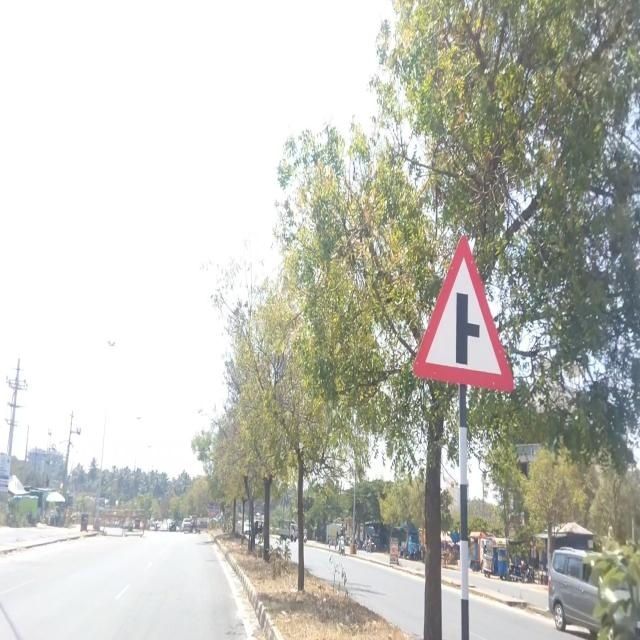bien_nguy_hiem: (411, 236, 515, 389)
